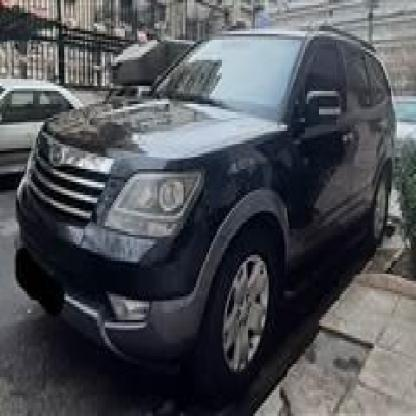Car: (26, 31, 395, 372), (0, 60, 97, 208)
